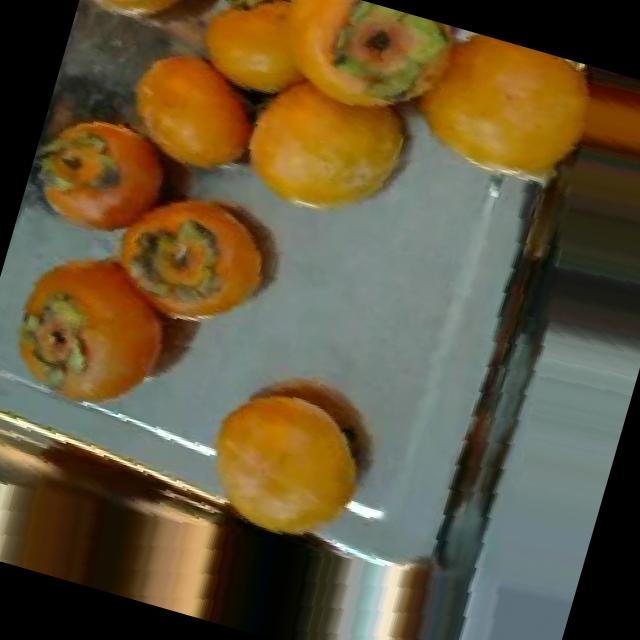Fruit: (208, 29, 454, 253), (172, 332, 407, 565), (72, 148, 316, 358), (94, 19, 294, 200), (15, 88, 206, 268)
